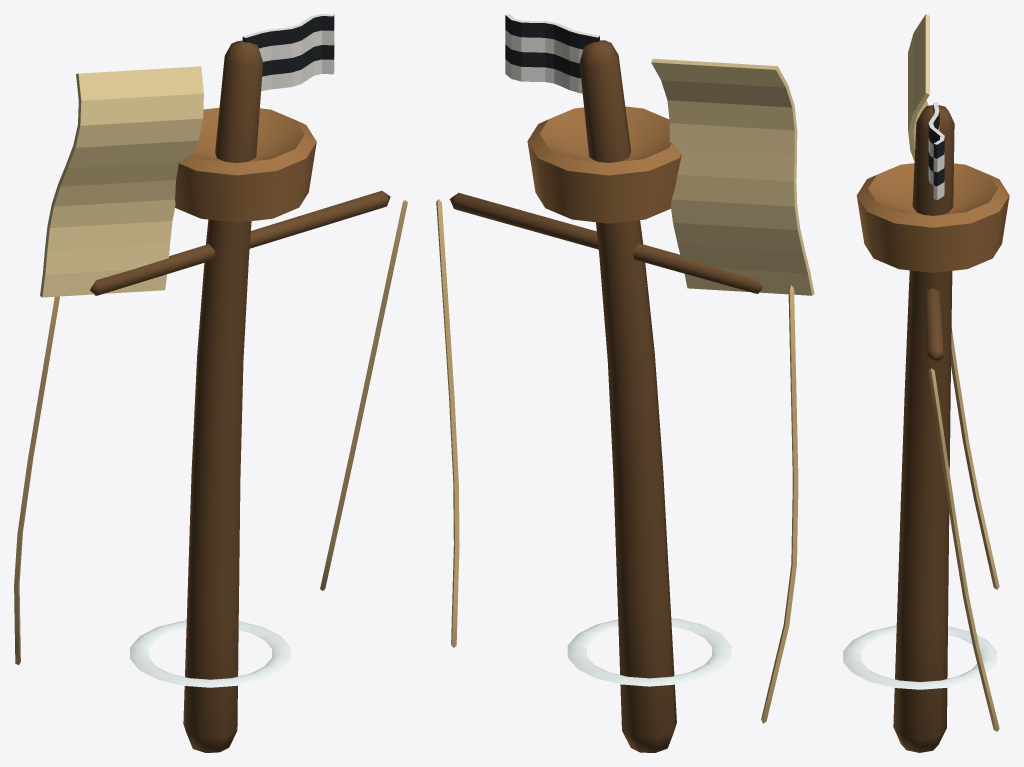
File: W2_Mast.fbx
3 renders of one model, left to right at view 1: azimuth 30°, elevation 25°; view 2: azimuth 150°, elevation 25°; view 3: azimuth 270°, elevation 25°, orthographic. The views are drawn at different scales.
Visible parts, largest first — view 1: Static, Sail, Flag; view 2: Static, Sail, Flag; view 3: Static, Sail, Flag.
Boxes of the visible parts, left/top/right/bottom form: Static: left=14, top=40, right=407, bottom=752; Sail: left=40, top=66, right=203, bottom=297; Flag: left=242, top=14, right=334, bottom=91; Static: left=436, top=40, right=798, bottom=752; Sail: left=651, top=58, right=814, bottom=295; Flag: left=505, top=14, right=599, bottom=93; Static: left=843, top=105, right=1009, bottom=752; Sail: left=908, top=14, right=929, bottom=161; Flag: left=928, top=102, right=944, bottom=200.
Size of the model in its own units: 5.38 by 9.77 by 2.17.
